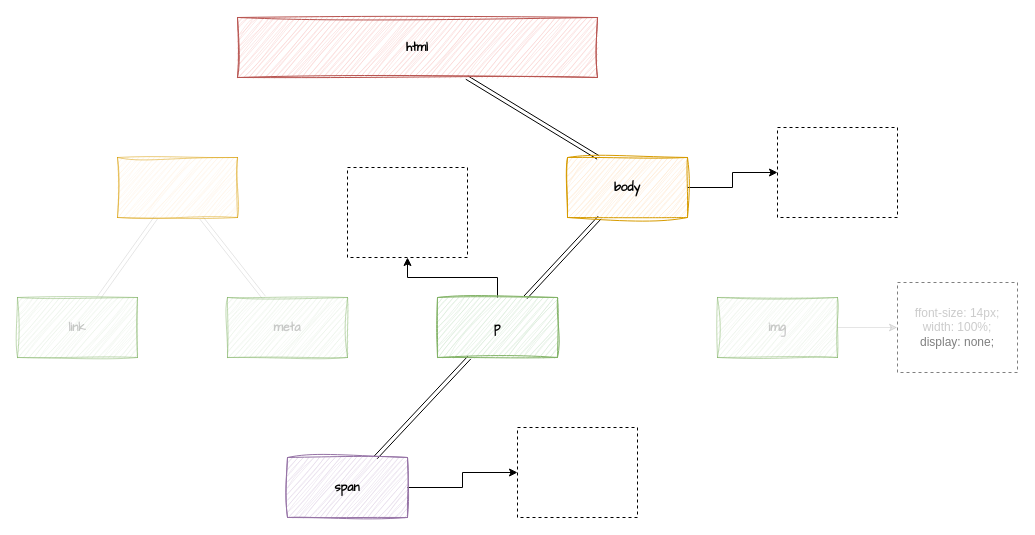
Some shapes in this 1035 by 535 pixel diagram are drawn without their labels. Each missing label, with the centre of its shape:
"font-size: 14px; color: red; width: 50%; display: block;" belongs at point (577, 472).
"font-size: 14px; width: 100%;" belongs at point (837, 172).
"font-size: 14px; width: 50%; color: red;" belongs at point (407, 212).
"head" belongs at point (177, 187).
